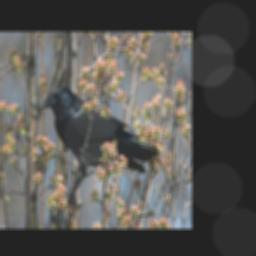Crow: (37, 83, 155, 204)
